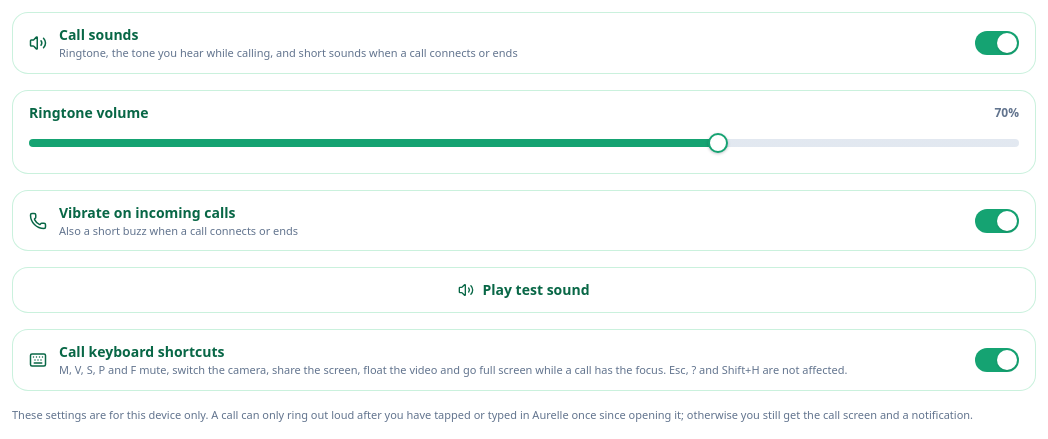
the Call sounds settings › switching sounds off is remembered on this device and greys out the volume and the test
Click the switch labelled "Call sounds".
click(99, 34)  # box [12,12,1036,74]
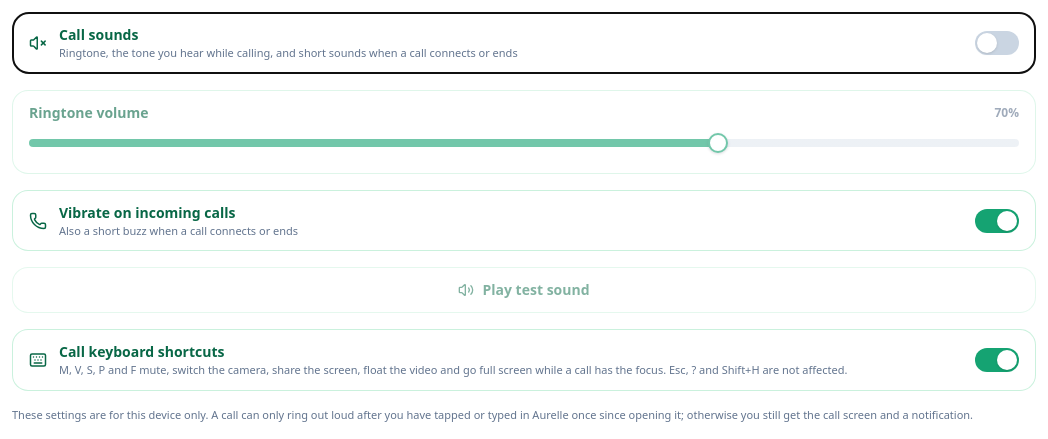
Expected: the slider labelled "Ringtone volume" is disabled, [29,131,1019,155]
Expected: the button "Play test sound" is disabled, [12,267,1036,313]
Click the switch labelled "Call sounds".
click(99, 34)  # box [12,12,1036,74]
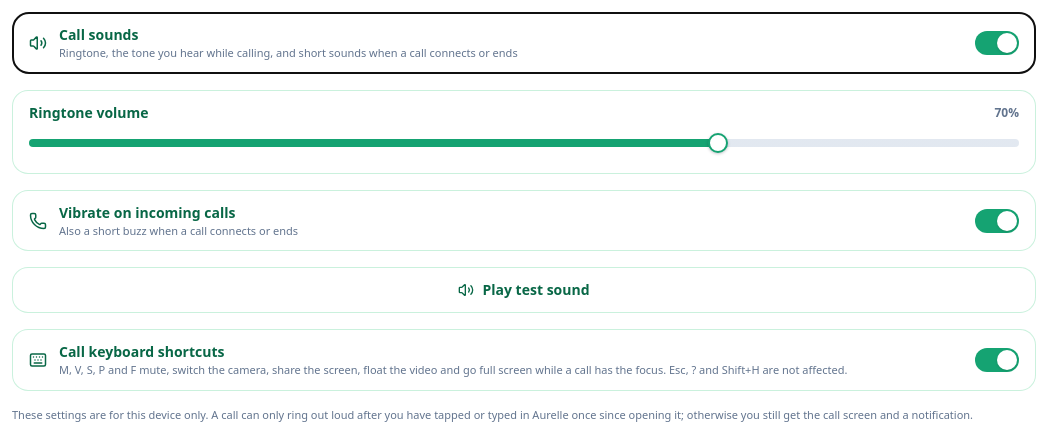
Expected: the slider labelled "Ringtone volume" is enabled, [29,131,1019,155]
